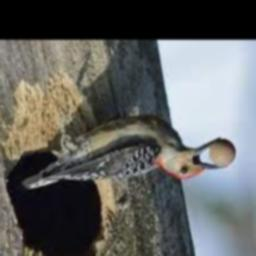Woodpecker: (21, 114, 227, 191)
